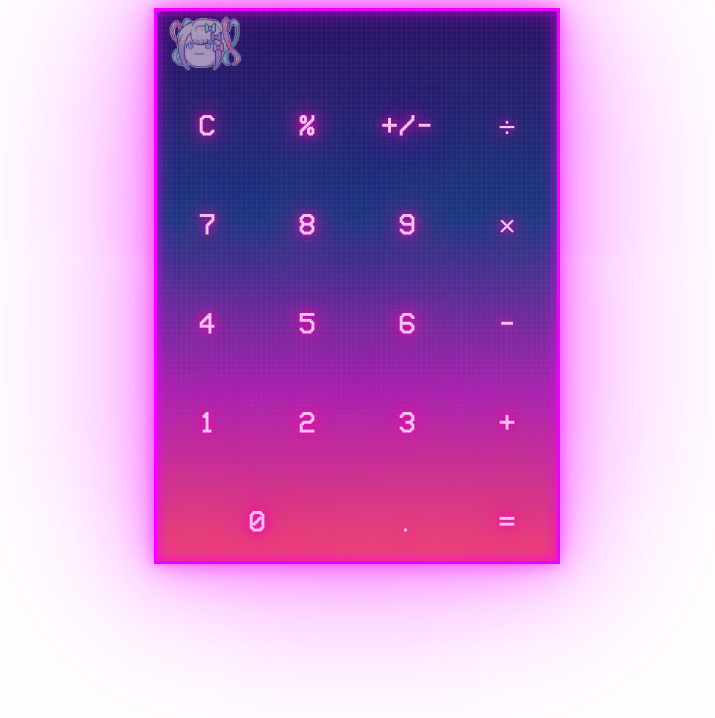
it: Testing component calculator › Testing display component reacting to keys
Click the element with test id "oneKey-test": click(207, 421) [198, 408, 216, 434]
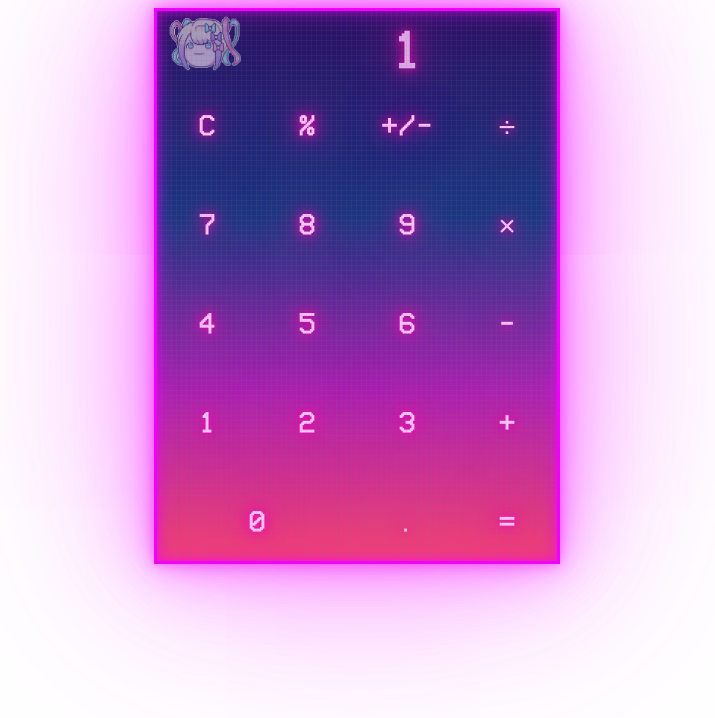
Click the element with test id "twoKey-test": click(307, 421) [298, 408, 316, 434]
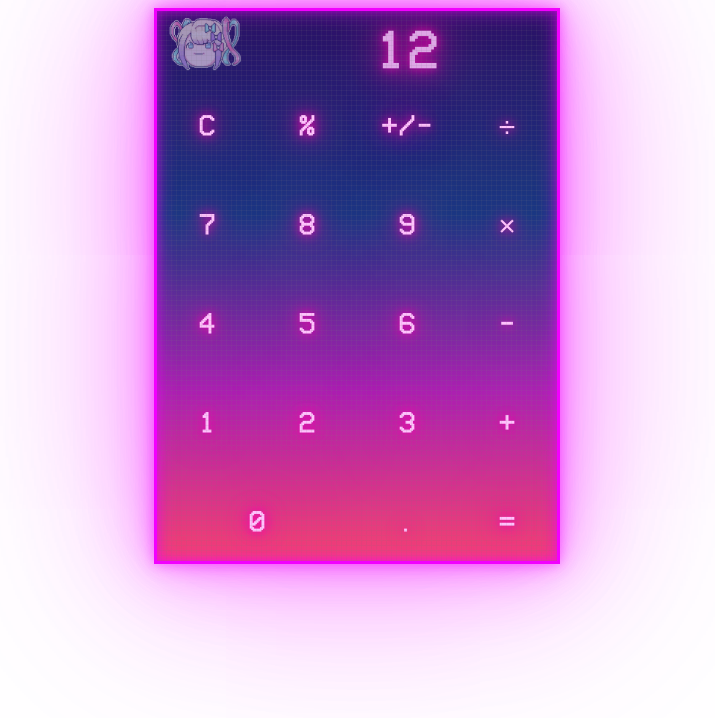
Click the element with test id "threeKey-test": click(407, 421) [398, 408, 416, 434]
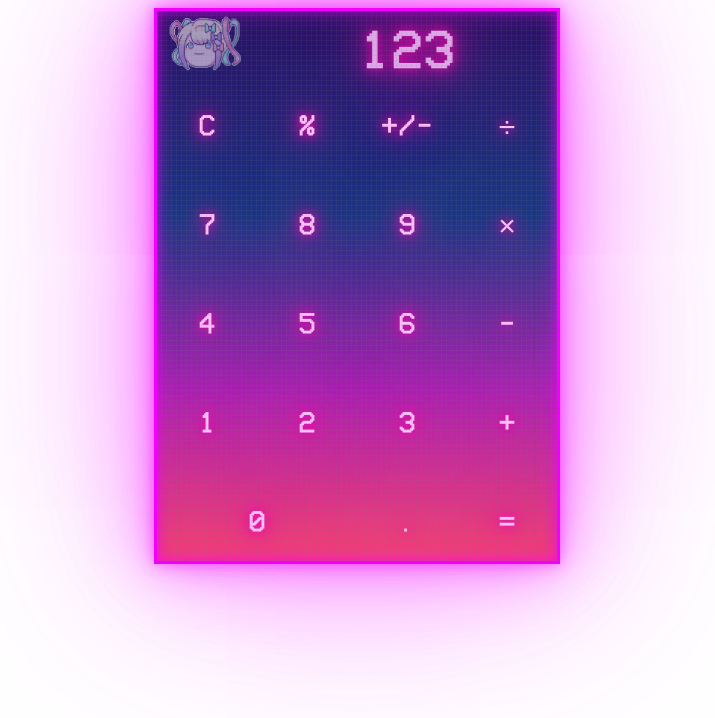
Expected: the text with test id "display-test" reads "123", [359, 23, 455, 71]
